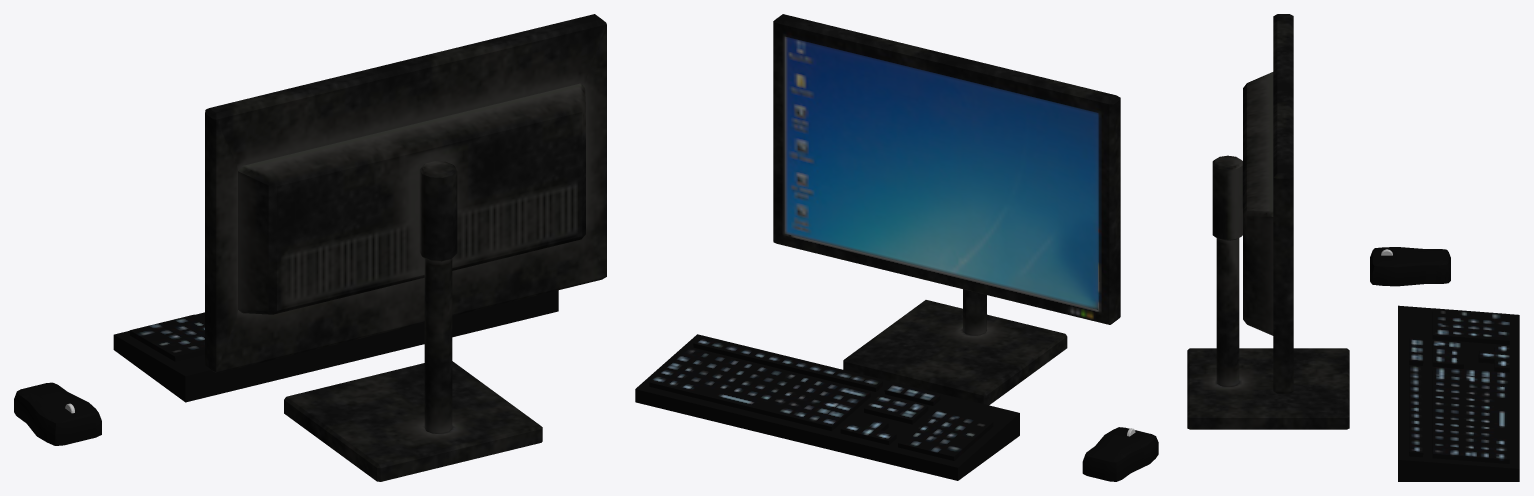
The model's file is 5computer.glb.
3 views of the same model, side by side, from view 1: azimuth 30°, elevation 25°; view 2: azimuth 150°, elevation 25°; view 3: azimuth 270°, elevation 25° (orthographic). The views are drawn at different scales.
Parts seen in each view (by area): view 1: computer; view 2: computer; view 3: computer.
Part boxes in pixels (bbox=[...]): computer: bbox=[14, 14, 606, 481]; computer: bbox=[635, 14, 1158, 481]; computer: bbox=[1187, 14, 1519, 481].
Size of the model in its own units: 0.561 by 0.3662 by 0.365.
1 material, 1 textured.
